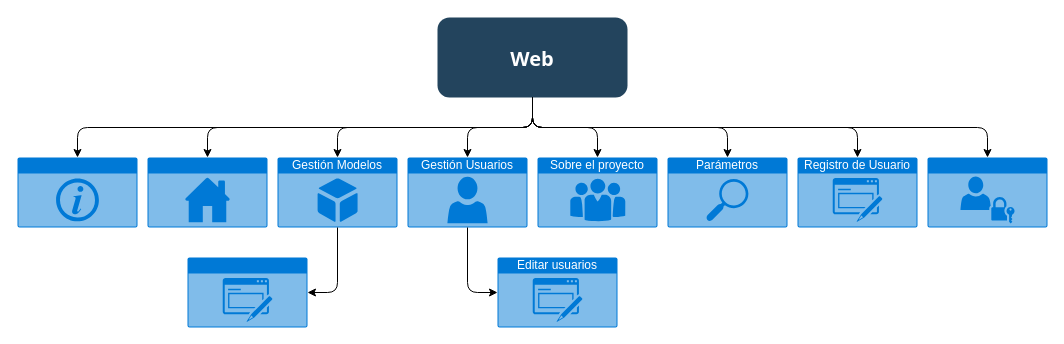
Some shapes in this 1064 by 344 pixel diagram are drawn without their labels. Each missing label, with the centre of its shape:
"Editar modelo" goes at pixel 247 292.
"Info" goes at pixel 77 192.
"Inicio de sesión" goes at pixel 987 192.
"Página principal" goes at pixel 207 192.
